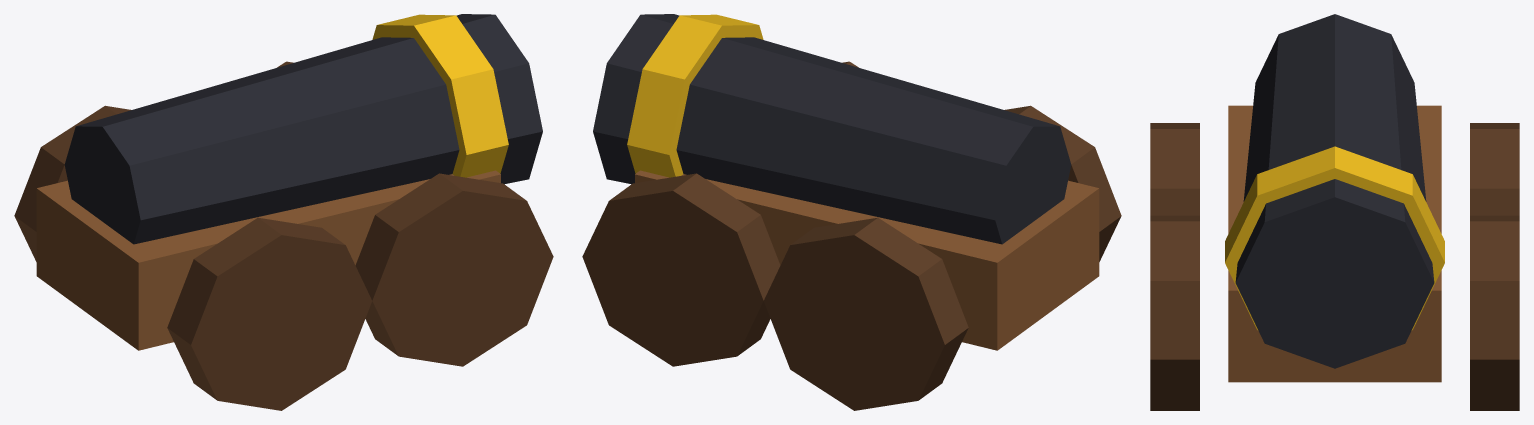
File: env_r13_cannon.glb
3 renders of one model, left to right at view 1: azimuth 30°, elevation 25°; view 2: azimuth 150°, elevation 25°; view 3: azimuth 270°, elevation 25°, orthographic. The views are drawn at different scales.
Visible parts, largest first — view 1: env_r13_cannon; view 2: env_r13_cannon; view 3: env_r13_cannon.
Part boxes in pixels (x1,y1,x2,y2): env_r13_cannon: (14, 14, 553, 410); env_r13_cannon: (582, 14, 1121, 410); env_r13_cannon: (1150, 14, 1519, 410).
Bounding box in the file's own units: 1.6 × 1 × 1.2.
Materials: 1 (1 with a texture image).
